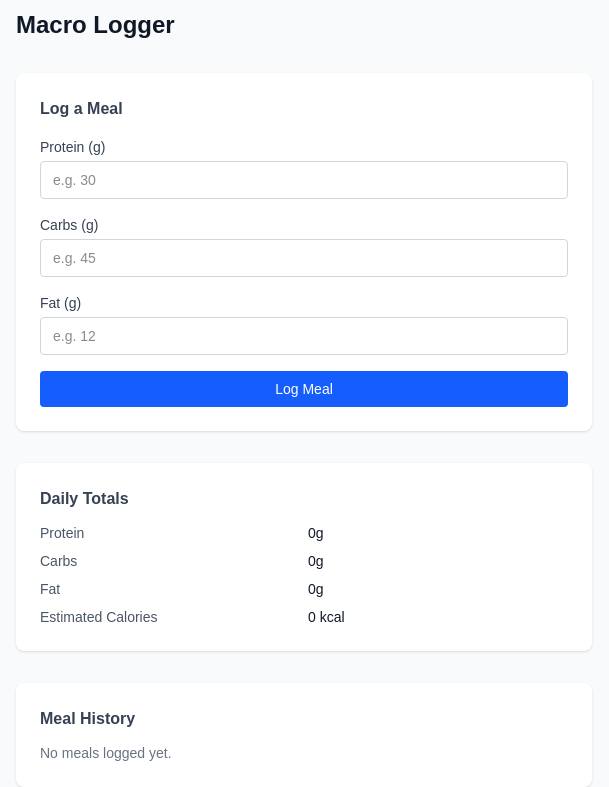
MacroLogPage › non-numeric input: shows error, sends no POST, displays no NaN
The width and height of the screenshot is (609, 787).
Expected: the field labelled "Protein (g)" is shown, [40, 161, 568, 199]
// Leave protein empty, fill carbs and fat — protein validation must fail
Type "80" into the field labelled "Carbs (g)".
click(304, 258); type("80")  # box [40, 239, 568, 277]
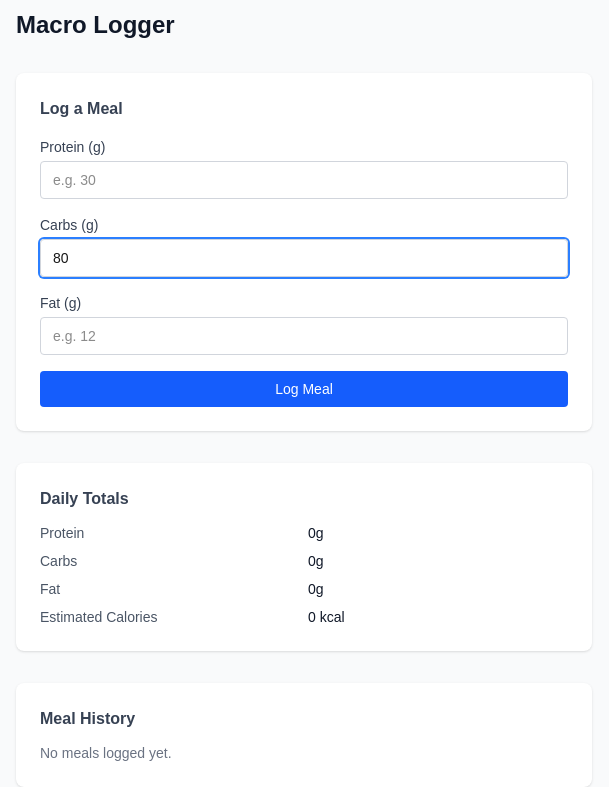
Type "20" into the field labelled "Fat (g)".
click(304, 336); type("20")  # box [40, 317, 568, 355]
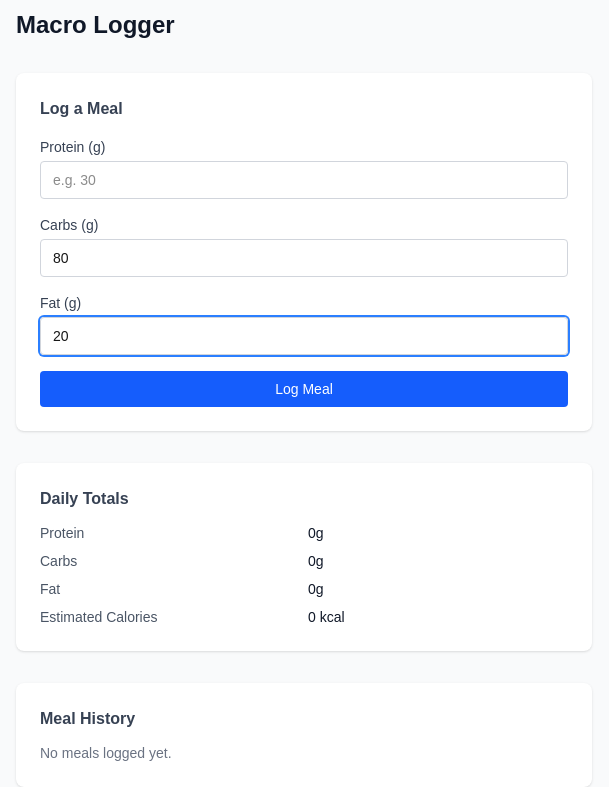
Click the button "Log Meal".
click(304, 389)  # box [40, 371, 568, 407]
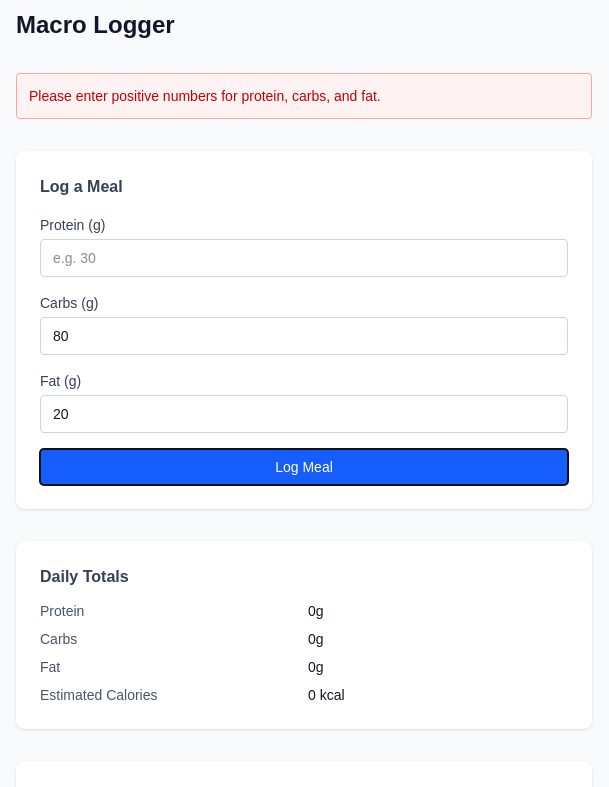
Result: the message "Please enter positive numbers for protein, carbs, and fat." is shown at [16, 73, 592, 119]
